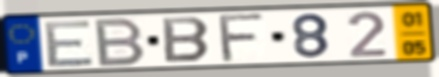2: (346, 10, 390, 59)
8: (291, 12, 333, 60)
B: (94, 16, 149, 69), (160, 16, 213, 64)
E: (42, 18, 97, 69)
F: (217, 12, 268, 65)
